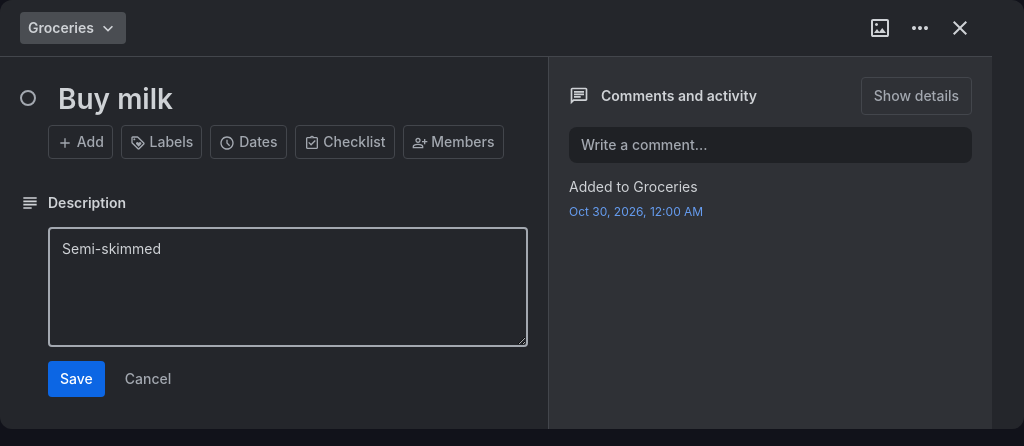
Scenario: EditTaskcardModalComponent › editing the description › saves a new description, shows it and closes the editor
The width and height of the screenshot is (1024, 446).
Replace the text in the text box named "Card description" with "Whole milk" at [288, 287], box [48,227,528,347]
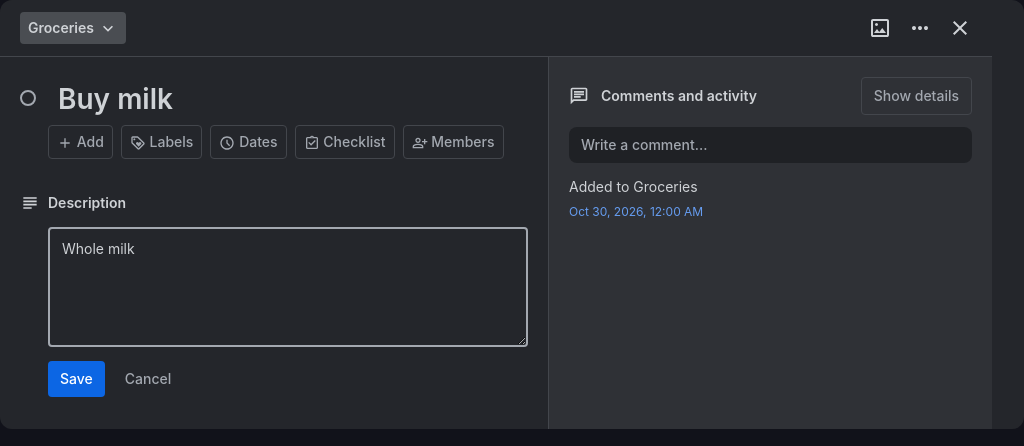
Click the button "Save" at [76, 379], box [48,361,105,397]
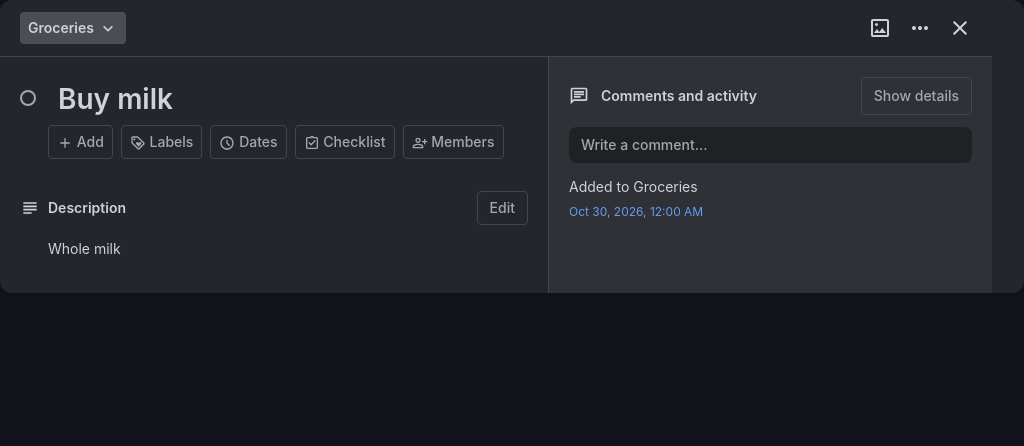
Expected: the text "Whole milk" is shown, [48,240,121,257]
